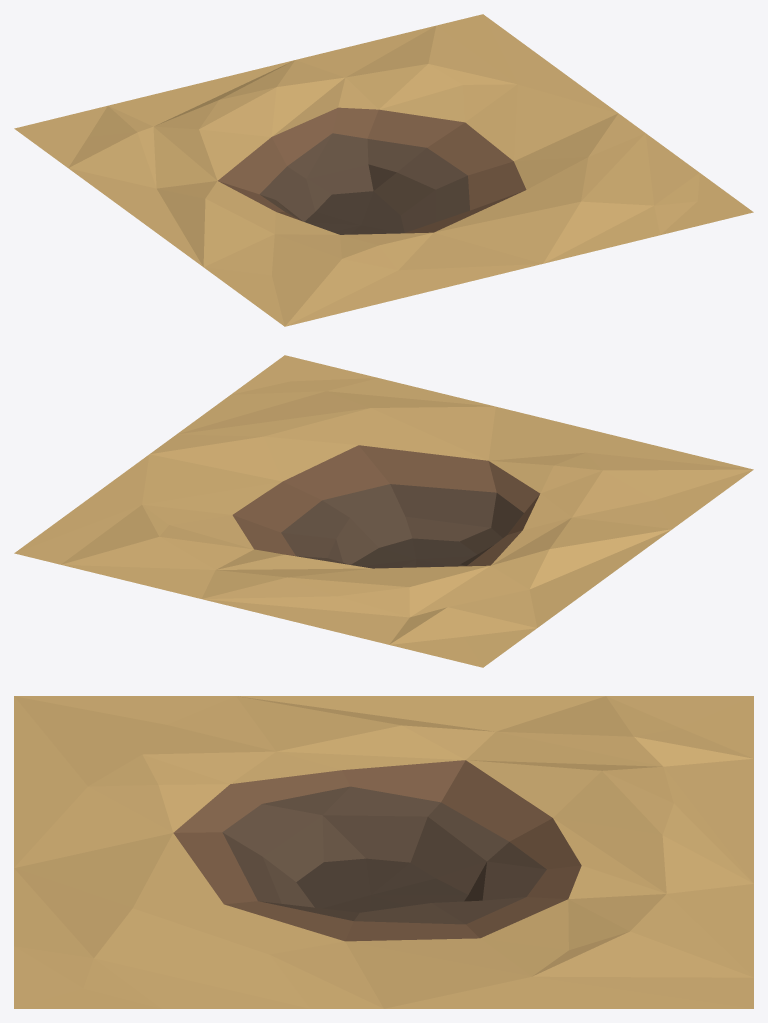
File: TB_D_Env_Tile_Lake_B.FBX
3 views of the same model, one above another, from view 1: azimuth 30°, elevation 25°; view 2: azimuth 150°, elevation 25°; view 3: azimuth 270°, elevation 25° (orthographic). The views are drawn at different scales.
Parts seen in each view (by area): view 1: TB_D_Env_Tile_Lake_B; view 2: TB_D_Env_Tile_Lake_B; view 3: TB_D_Env_Tile_Lake_B.
Boxes of the visible parts, <box> form: TB_D_Env_Tile_Lake_B: <box>14,14,753,326</box>; TB_D_Env_Tile_Lake_B: <box>14,355,753,667</box>; TB_D_Env_Tile_Lake_B: <box>14,696,753,1008</box>.
Size of the model in its own units: 20 by 2.24 by 20.
